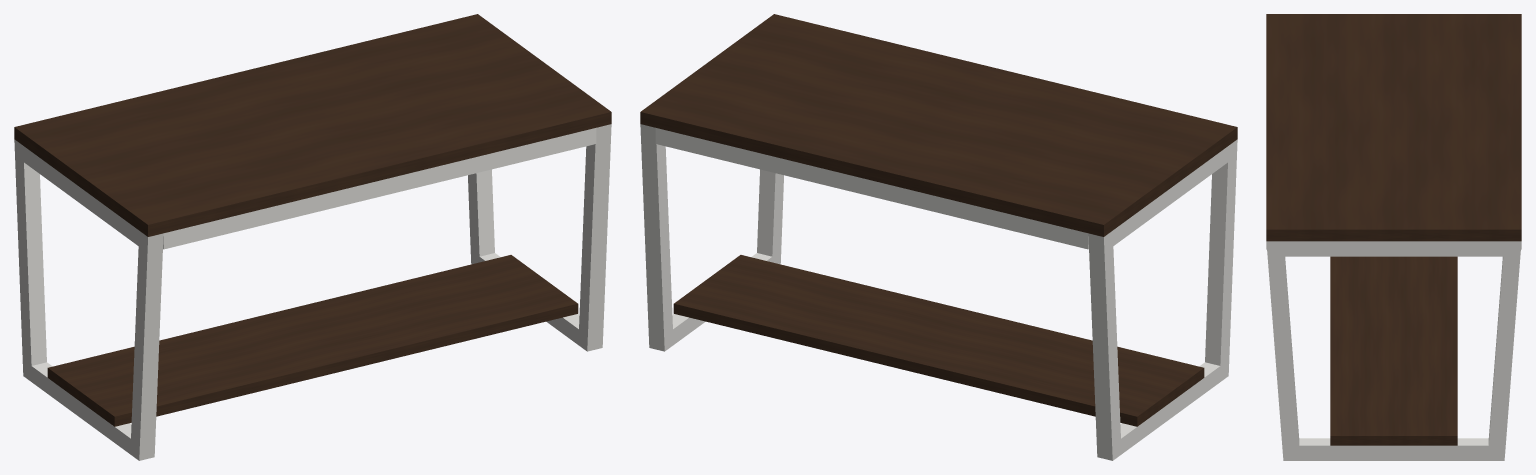
Rendered from mesa-living-nord-estante-ebano-blanco-4cm.glb.
3 views of the same model, side by side, from view 1: azimuth 30°, elevation 25°; view 2: azimuth 150°, elevation 25°; view 3: azimuth 270°, elevation 25° (orthographic). The views are drawn at different scales.
Parts seen in each view (by area): view 1: Tapa de madera maciza 120 x 60 x 3 cm, Estante inferior de madera de 120 cm (proporción aproximada), Patas inclinadas con cortes a inglete, Larguero longitudinal superior de hierro 4 x 4 mm, Travesaño inferior del trapecio, perfil 4 cm (×2), Travesaño superior del trapecio, perfil 4 cm; view 2: Tapa de madera maciza 120 x 60 x 3 cm, Estante inferior de madera de 120 cm (proporción aproximada), Patas inclinadas con cortes a inglete, Larguero longitudinal superior de hierro 4 x 4 mm, Travesaño inferior del trapecio, perfil 4 cm (×2), Travesaño superior del trapecio, perfil 4 cm; view 3: Tapa de madera maciza 120 x 60 x 3 cm, Estante inferior de madera de 120 cm (proporción aproximada), Patas inclinadas con cortes a inglete, Travesaño superior del trapecio, perfil 4 cm, Travesaño inferior del trapecio, perfil 4 cm.
Part boxes in pixels (box(x1,y1,x2,y2)): Tapa de madera maciza 120 x 60 x 3 cm: box(14, 14, 611, 236); Estante inferior de madera de 120 cm (proporción aproximada): box(47, 255, 578, 426); Patas inclinadas con cortes a inglete: box(14, 124, 611, 460); Larguero longitudinal superior de hierro 4 x 4 mm: box(163, 128, 596, 249); Travesaño inferior del trapecio, perfil 4 cm (×2): box(31, 253, 582, 453); Travesaño superior del trapecio, perfil 4 cm: box(23, 146, 142, 246); Tapa de madera maciza 120 x 60 x 3 cm: box(640, 14, 1237, 236); Estante inferior de madera de 120 cm (proporción aproximada): box(673, 255, 1204, 426); Patas inclinadas con cortes a inglete: box(640, 124, 1237, 460); Larguero longitudinal superior de hierro 4 x 4 mm: box(655, 128, 1088, 249); Travesaño inferior del trapecio, perfil 4 cm (×2): box(669, 253, 1224, 453); Travesaño superior del trapecio, perfil 4 cm: box(1108, 146, 1228, 249); Tapa de madera maciza 120 x 60 x 3 cm: box(1266, 14, 1521, 241); Estante inferior de madera de 120 cm (proporción aproximada): box(1330, 256, 1457, 445); Patas inclinadas con cortes a inglete: box(1266, 241, 1521, 460); Travesaño superior del trapecio, perfil 4 cm: box(1275, 241, 1512, 256); Travesaño inferior del trapecio, perfil 4 cm: box(1292, 438, 1495, 460).
Bounding box in the file's own units: 1.2 × 0.6 × 0.6.
2 materials, 1 textured.
